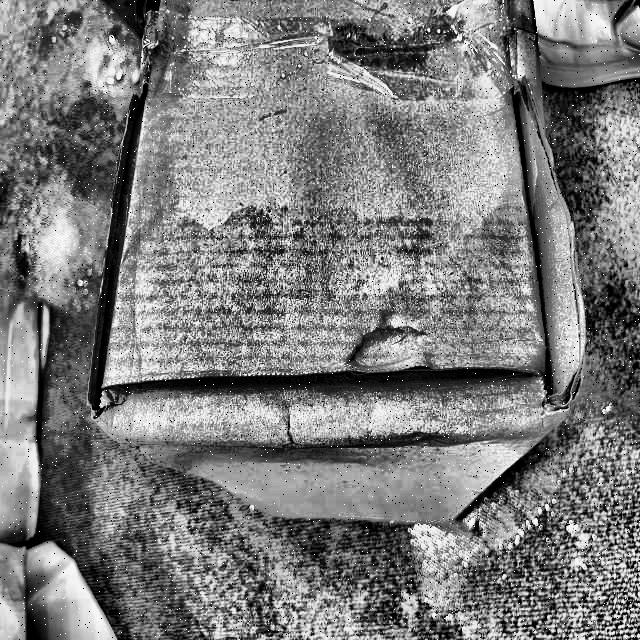box: (81, 0, 604, 532)
wet: (106, 218, 556, 455)
